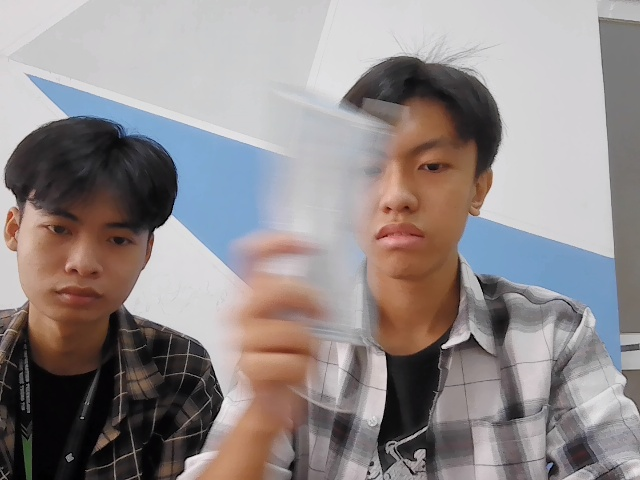human: (13, 106, 174, 320), (345, 64, 502, 283)
mask: (281, 92, 371, 339)
